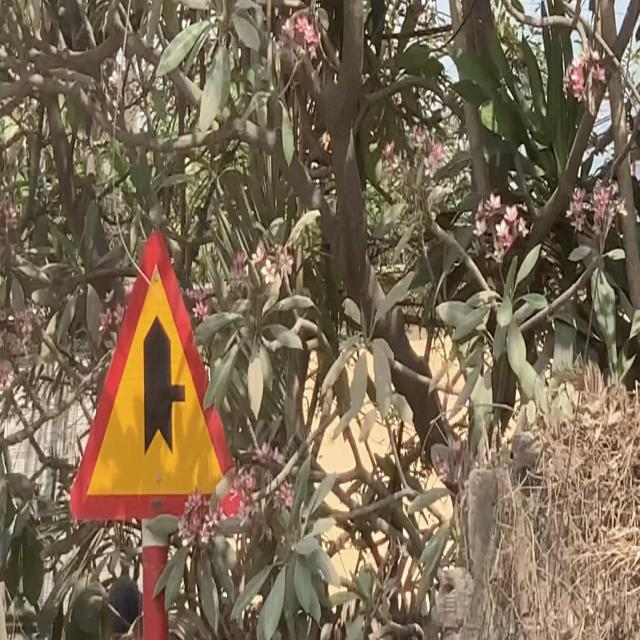Giao voi duong khong uu tien: (58, 202, 255, 541)
